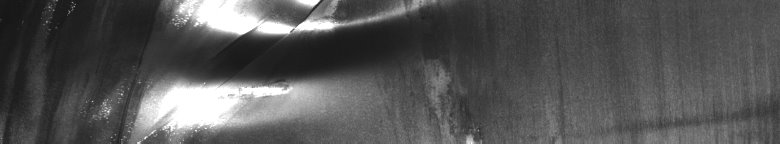ke: (43, 4, 480, 136)
